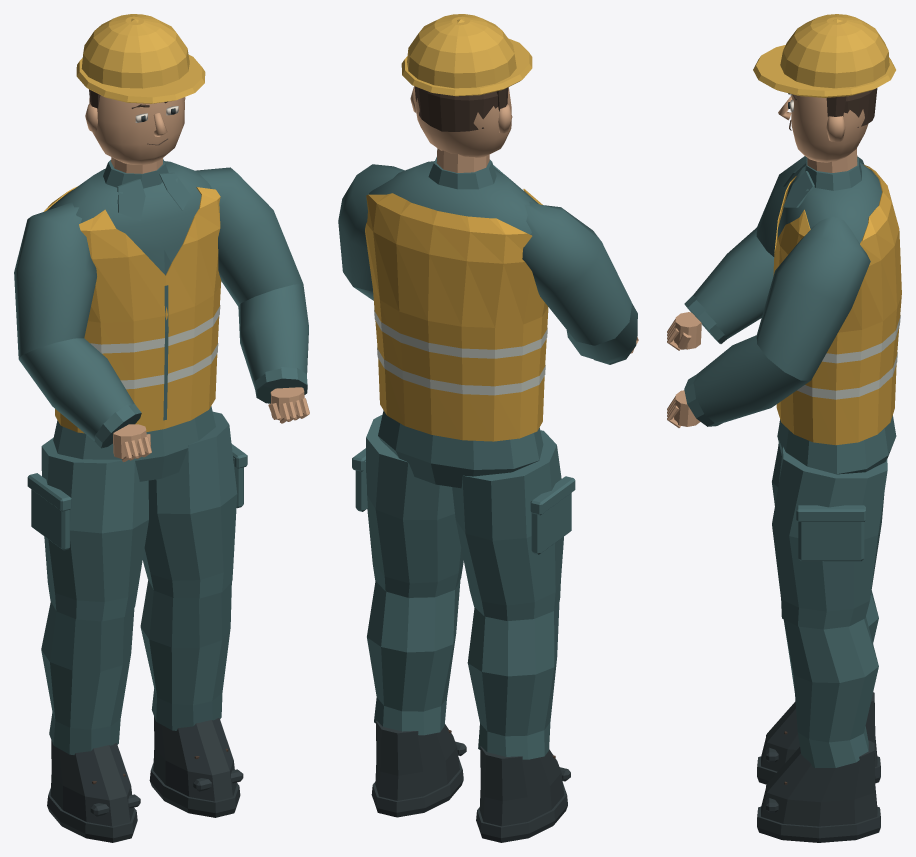
Rendered from picker-worker.glb.
3 renders of one model, left to right at view 1: azimuth 30°, elevation 25°; view 2: azimuth 150°, elevation 25°; view 3: azimuth 270°, elevation 25°, orthographic.
Visible parts, largest first — view 1: continuous_tailored_vest, full_work_trouser_thigh_L, full_work_trouser_thigh_R, folded_work_trouser_calf_L, folded_work_trouser_calf_R, continuous_shoulder_and_sleeve_L, continuous_shoulder_and_sleeve_R, tapered_forearm_L, shaped_shirt_torso, hardhat_full_dome, tapered_forearm_R, boot_upper (+18 smaller); view 2: continuous_tailored_vest, full_work_trouser_thigh_L, full_work_trouser_thigh_R, folded_work_trouser_calf_L, folded_work_trouser_calf_R, continuous_shoulder_and_sleeve_L, hardhat_full_dome, joined_trouser_hips, boot_upper, boot_upper.001, shaped_shirt_torso, continuous_shoulder_and_sleeve_R (+12 smaller); view 3: continuous_tailored_vest, full_work_trouser_thigh_R, continuous_shoulder_and_sleeve_R, folded_work_trouser_calf_R, boot_upper.001, hardhat_full_dome, tapered_forearm_R, tapered_forearm_L, shaped_shirt_torso, joined_trouser_hips, warm_sculpted_head, tailored_cargo_pocket_R (+15 smaller).
Part boxes in pixels (x1,y1,x2,y2): continuous_tailored_vest: (43,186,221,433); full_work_trouser_thigh_L: (41,437,148,621); full_work_trouser_thigh_R: (142,411,237,598); folded_work_trouser_calf_L: (41,601,134,754); folded_work_trouser_calf_R: (140,580,231,730); continuous_shoulder_and_sleeve_L: (14,202,96,358); continuous_shoulder_and_sleeve_R: (195,167,303,306); tapered_forearm_L: (19,338,139,447); shaped_shirt_torso: (47,161,211,275); hardhat_full_dome: (81,14,189,88); tapered_forearm_R: (238,284,308,403); boot_upper: (50,740,133,826); continuous_tailored_vest: (365,189,548,441); full_work_trouser_thigh_L: (452,430,563,620); full_work_trouser_thigh_R: (366,414,463,597); folded_work_trouser_calf_L: (467,601,559,759); folded_work_trouser_calf_R: (367,579,460,735); continuous_shoulder_and_sleeve_L: (522,201,631,345); hardhat_full_dome: (407,14,516,88); joined_trouser_hips: (378,410,543,488); boot_upper: (479,746,564,826); boot_upper.001: (375,720,459,800); shaped_shirt_torso: (369,161,538,234); continuous_shoulder_and_sleeve_R: (338,164,404,291); continuous_tailored_vest: (773,164,901,445); full_work_trouser_thigh_R: (772,447,887,629); continuous_shoulder_and_sleeve_R: (756,216,870,380); folded_work_trouser_calf_R: (783,617,878,767); boot_upper.001: (761,740,877,826); hardhat_full_dome: (780,14,889,88); tapered_forearm_R: (693,335,810,423); tapered_forearm_L: (693,227,774,343); shaped_shirt_torso: (777,162,881,242); joined_trouser_hips: (777,415,896,474); warm_sculpted_head: (791,94,868,162); tailored_cargo_pocket_R: (798,522,864,561).
Bounding box in the file's own units: 0.637 × 1.7 × 0.4619.
